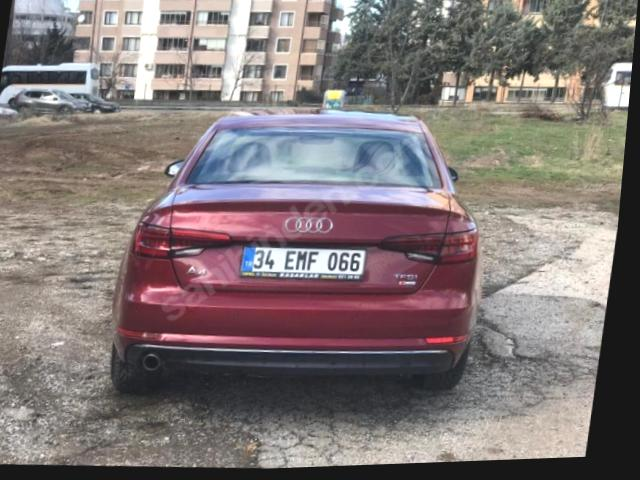plaka: (240, 247, 365, 280)
